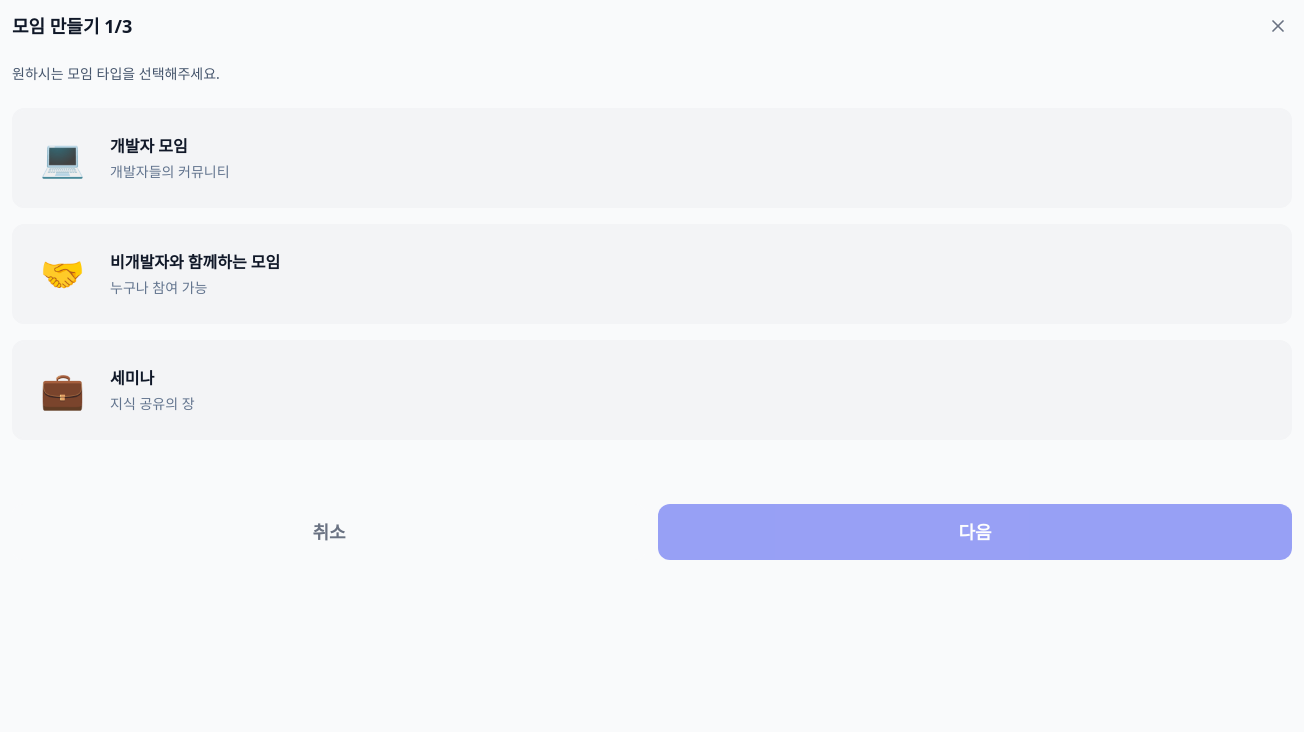
Test: CreateMeetingWizard 컴포넌트 › Step 2 - 모임 정보 입력 › Step 2 진입 확인
The image size is (1304, 732).
Click the button "💻 개발자 모임 개발자들의 커뮤니티" at [62, 158], box [12, 108, 1292, 208]
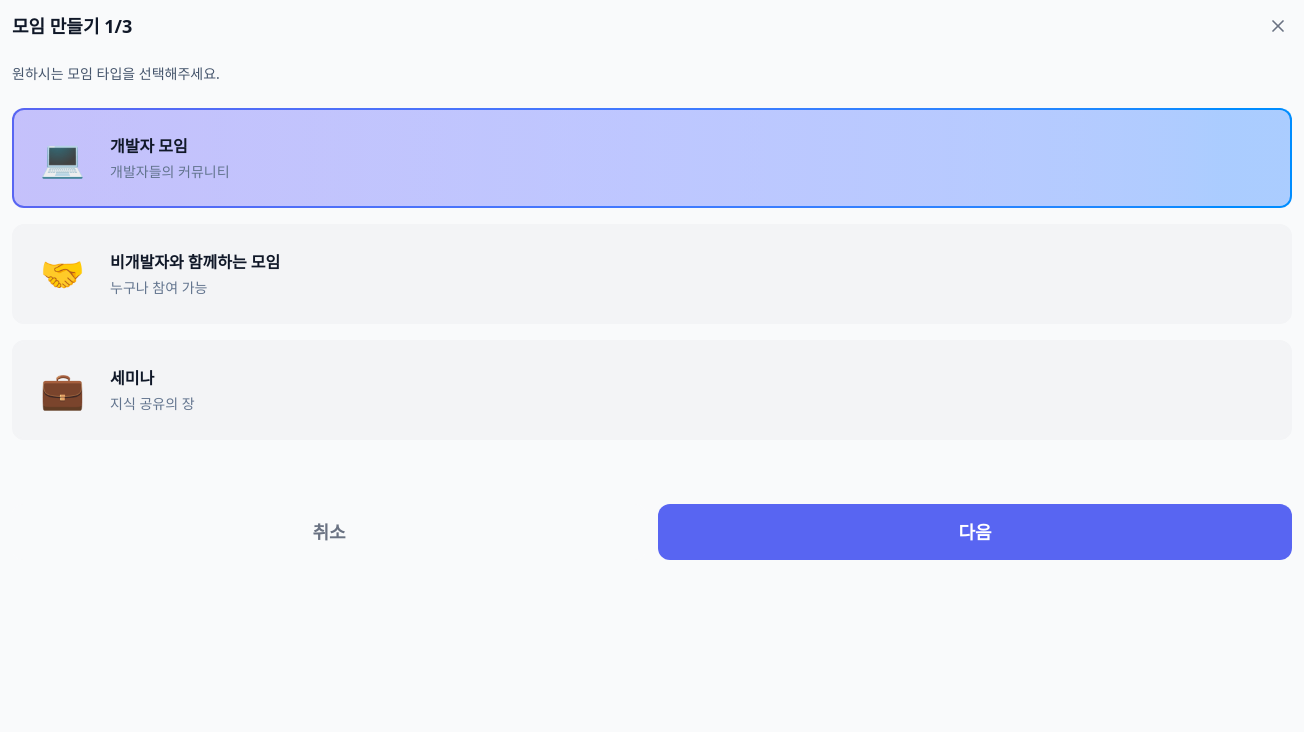
Click the button "다음" at [975, 532], box [658, 504, 1292, 560]
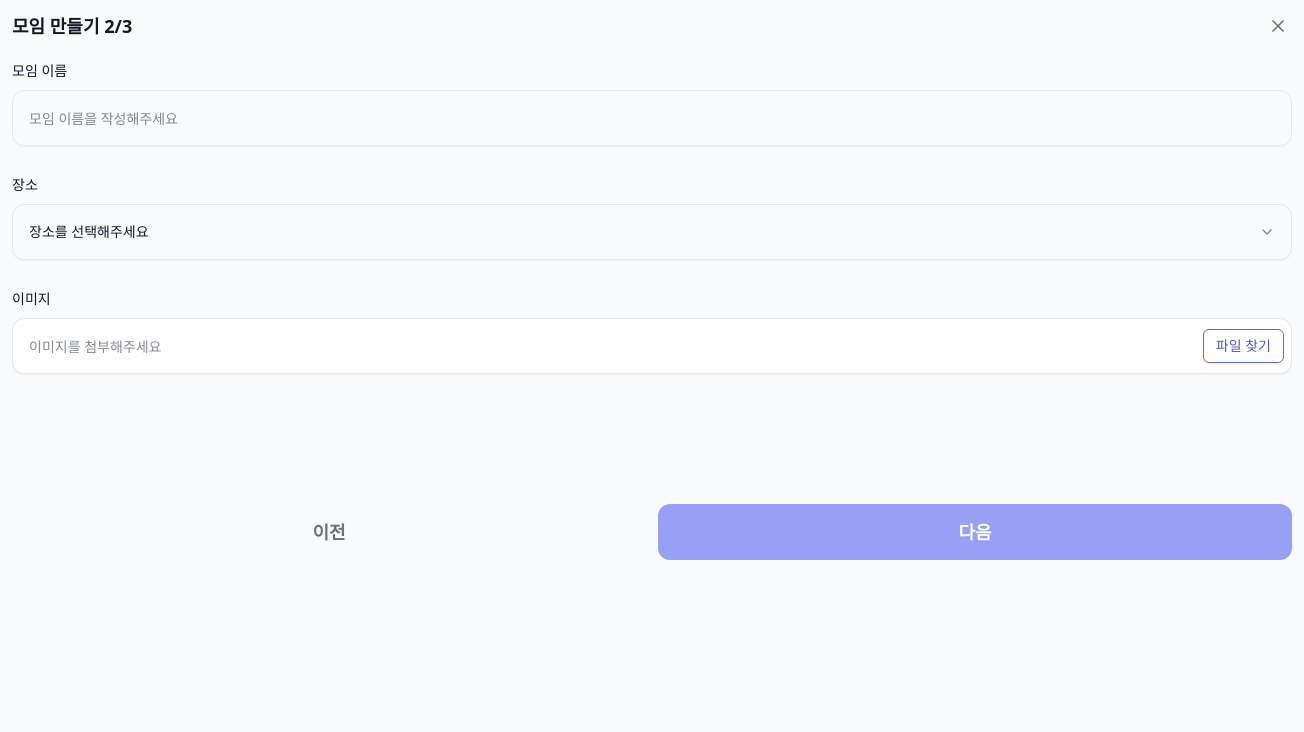
Now the heading "모임 만들기 2/3" is shown, box [12, 12, 132, 40]
Now the field labelled "모임 이름" is shown, box [12, 90, 1292, 146]
